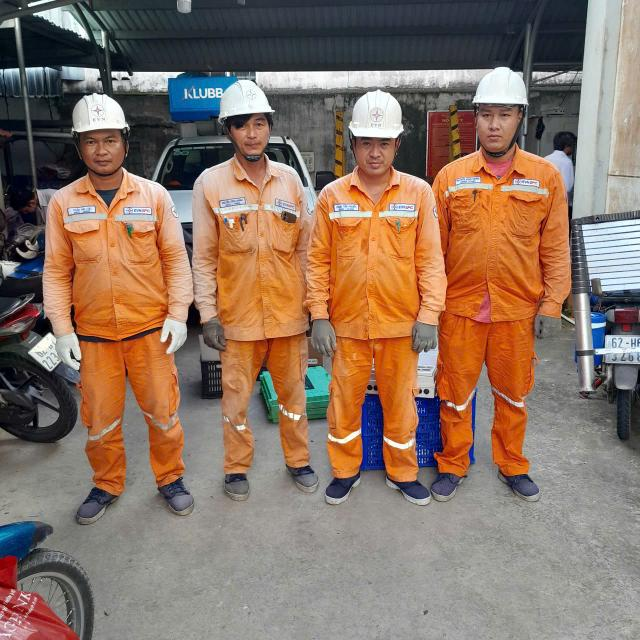gloves: (533, 296, 586, 362), (152, 309, 213, 359), (193, 304, 239, 362), (44, 328, 97, 372), (410, 311, 453, 362), (308, 312, 348, 363)
helmet: (464, 63, 547, 128), (211, 73, 292, 137), (337, 88, 418, 150), (68, 88, 127, 139)
shoes: (484, 456, 559, 510), (72, 473, 127, 534), (383, 468, 435, 513), (161, 462, 201, 519), (221, 454, 260, 510), (321, 469, 368, 514), (425, 458, 468, 505), (282, 452, 323, 498)
